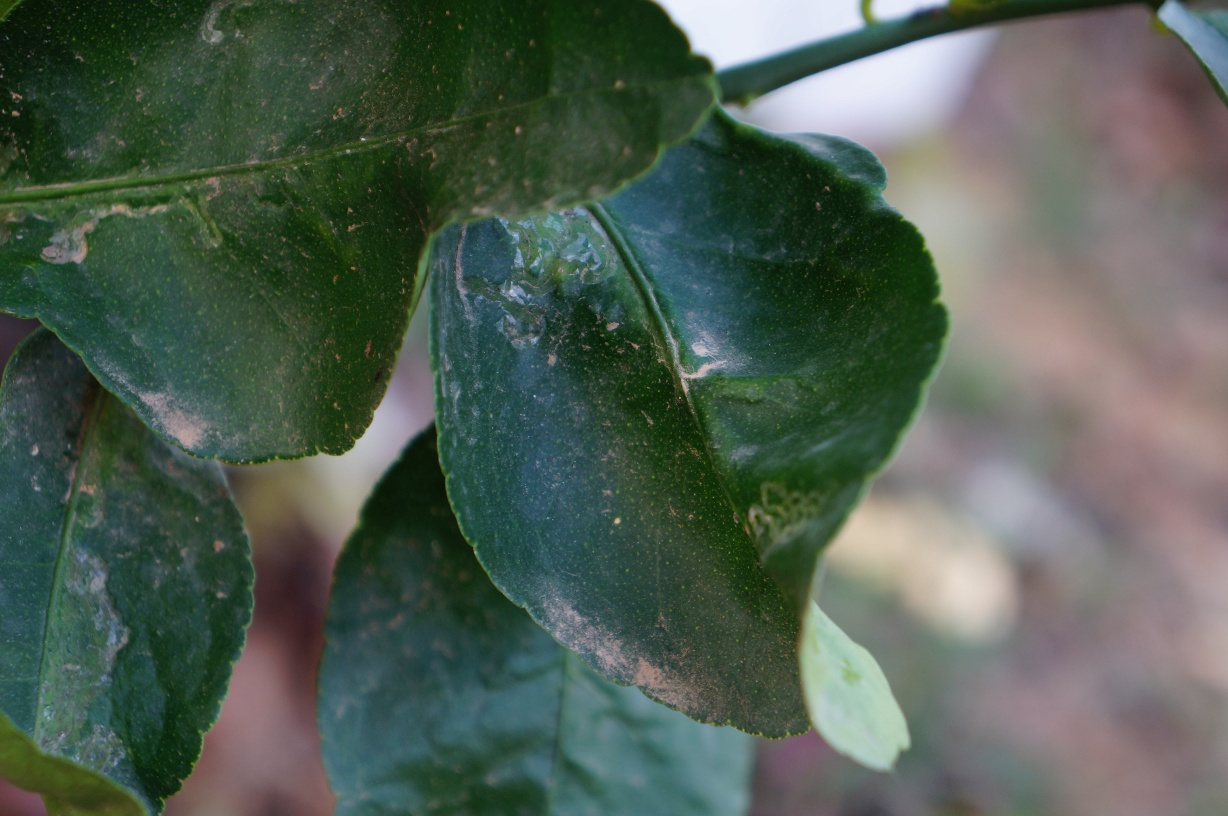damage: (425, 197, 667, 357), (38, 171, 238, 287), (741, 463, 848, 558)
